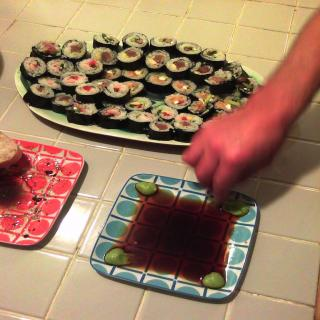Sushi: (23, 33, 255, 143), (144, 50, 164, 68)
